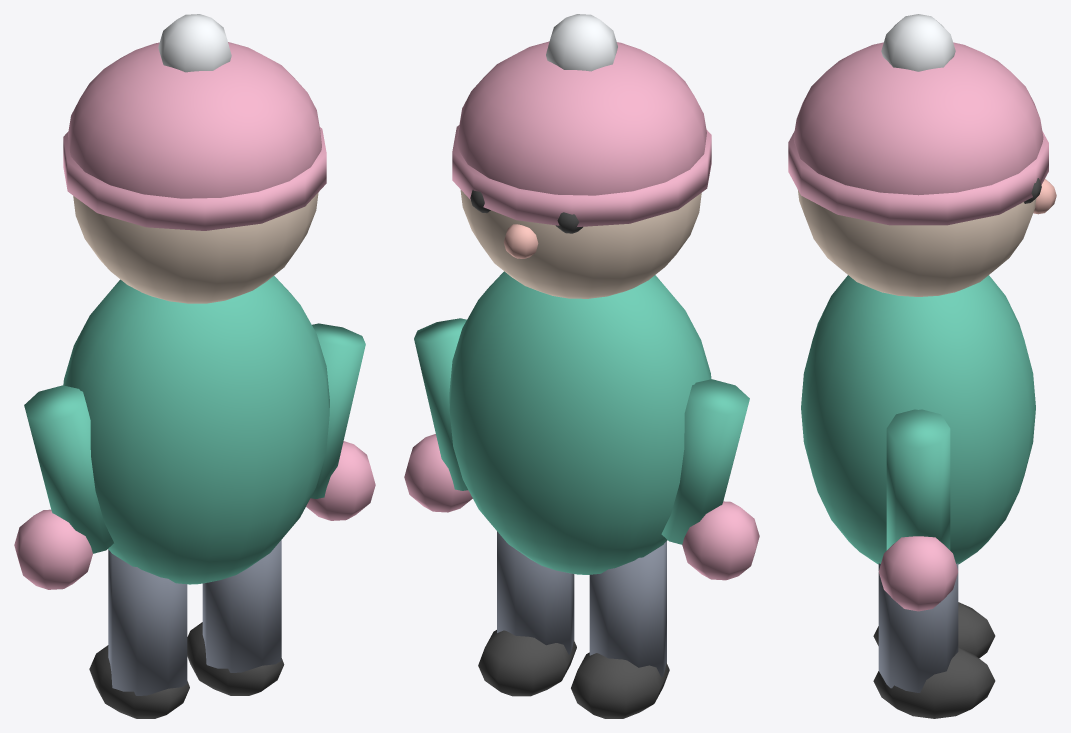
The model's file is kid_c.glb.
The picture shows the model from 3 angles, left to right: view 1: azimuth 30°, elevation 25°; view 2: azimuth 150°, elevation 25°; view 3: azimuth 270°, elevation 25°; orthographic projection. The views are drawn at different scales.
Parts seen in each view (by area): view 1: body, hat, headMesh, legRMesh, brim, armRMesh, legLMesh, armRMitt, armLMesh, pompom, armLMitt, legRBoot (+1 smaller); view 2: body, hat, headMesh, brim, legRMesh, armRMesh, legLMesh, legLBoot, legRBoot, armRMitt, armLMesh, pompom (+2 smaller); view 3: body, hat, headMesh, brim, armLMesh, legLMesh, armLMitt, legLBoot, pompom, legRBoot, nose.
Part boxes in pixels (bbox=[...]): body: bbox=[63, 276, 329, 584]; hat: bbox=[68, 42, 321, 198]; headMesh: bbox=[73, 192, 318, 303]; legRMesh: bbox=[108, 550, 187, 695]; brim: bbox=[63, 127, 326, 230]; armRMesh: bbox=[24, 385, 113, 553]; legLMesh: bbox=[202, 540, 281, 672]; armRMitt: bbox=[14, 509, 92, 589]; armLMesh: bbox=[310, 323, 365, 498]; pompom: bbox=[158, 14, 231, 72]; armLMitt: bbox=[306, 441, 375, 520]; legRBoot: bbox=[89, 645, 189, 718]; body: bbox=[449, 271, 711, 574]; hat: bbox=[457, 41, 706, 195]; headMesh: bbox=[460, 190, 701, 298]; brim: bbox=[452, 125, 711, 226]; legRMesh: bbox=[589, 541, 666, 677]; armRMesh: bbox=[661, 379, 749, 544]; legLMesh: bbox=[497, 531, 574, 654]; legLBoot: bbox=[478, 630, 576, 696]; legRBoot: bbox=[571, 652, 669, 718]; armRMitt: bbox=[682, 501, 759, 580]; armLMesh: bbox=[414, 318, 467, 490]; pompom: bbox=[546, 14, 617, 71]; body: bbox=[801, 275, 1035, 564]; hat: bbox=[793, 42, 1043, 195]; headMesh: bbox=[798, 190, 1036, 296]; brim: bbox=[788, 131, 1048, 225]; armLMesh: bbox=[886, 409, 950, 550]; legLMesh: bbox=[878, 563, 958, 692]; armLMitt: bbox=[878, 536, 958, 611]; legLBoot: bbox=[873, 647, 995, 718]; pompom: bbox=[881, 14, 955, 71]; legRBoot: bbox=[873, 602, 995, 658]; nose: bbox=[1033, 179, 1056, 214].
Size of the model in its own units: 0.75 by 1.4 by 0.505.
